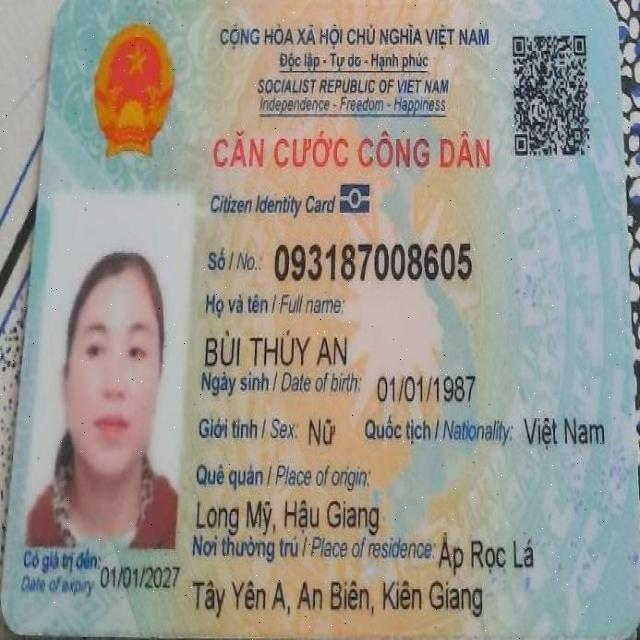current_place: (188, 574, 494, 621), (431, 530, 547, 580)
dob: (370, 361, 481, 409)
expire_date: (94, 559, 185, 598)
gender: (304, 409, 340, 449)
id: (269, 230, 479, 289)
name: (199, 321, 355, 372)
nationality: (518, 405, 612, 456)
origin_place: (191, 493, 403, 537)
